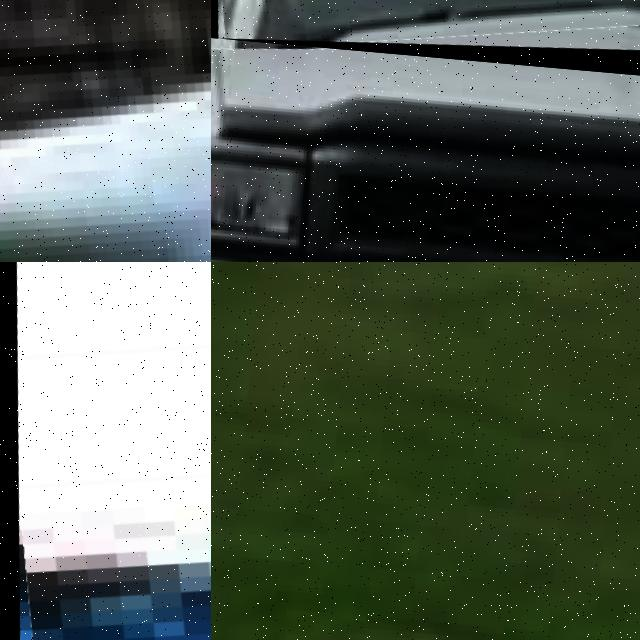0: (0, 0, 211, 262)
drone: (0, 262, 211, 640), (211, 0, 640, 81)
